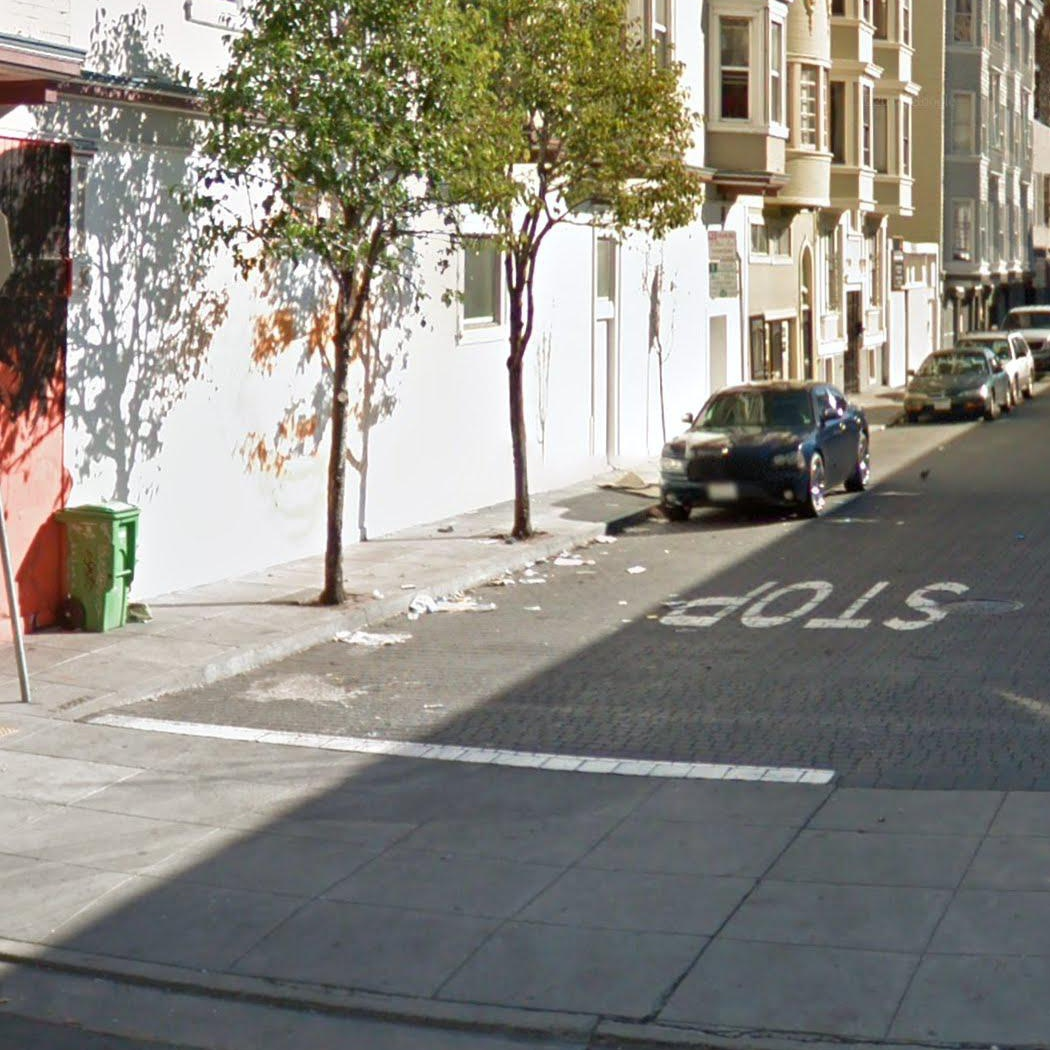1 Hour Parking: (707, 262, 742, 299)
No Parking: (706, 229, 739, 262)
